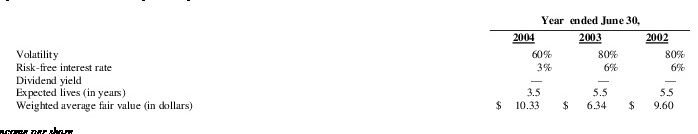table: (0, 0, 698, 134)
